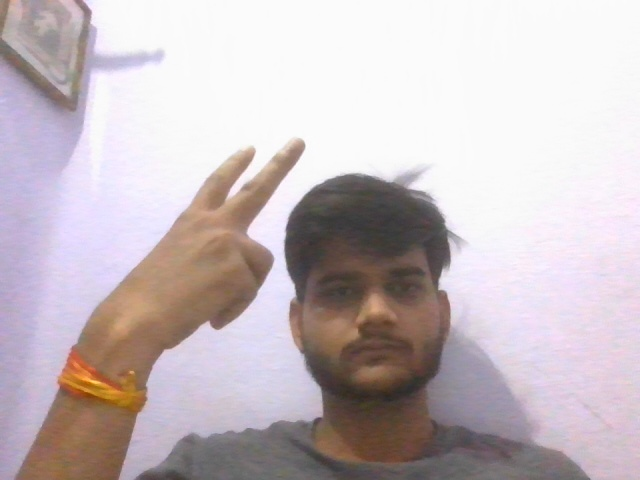yes: (113, 121, 309, 358)
